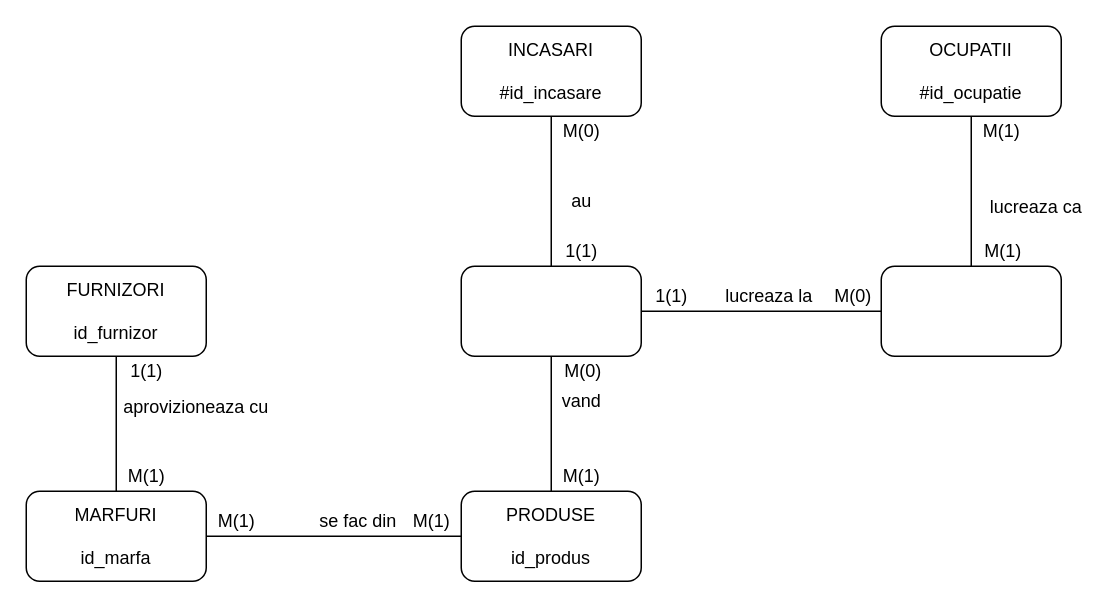
This 1116x608 diagram has some shape labels left out. Each missing label, with the centre of its shape:
ANGAJATI #id_angajat: (x=970, y=310)
COFETARII id_cofetarie: (x=550, y=310)
